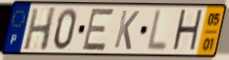0: (53, 6, 79, 52)
E: (80, 7, 116, 52)
H: (22, 6, 58, 52), (170, 8, 205, 55)
K: (112, 9, 141, 52)
L: (144, 8, 169, 54)
